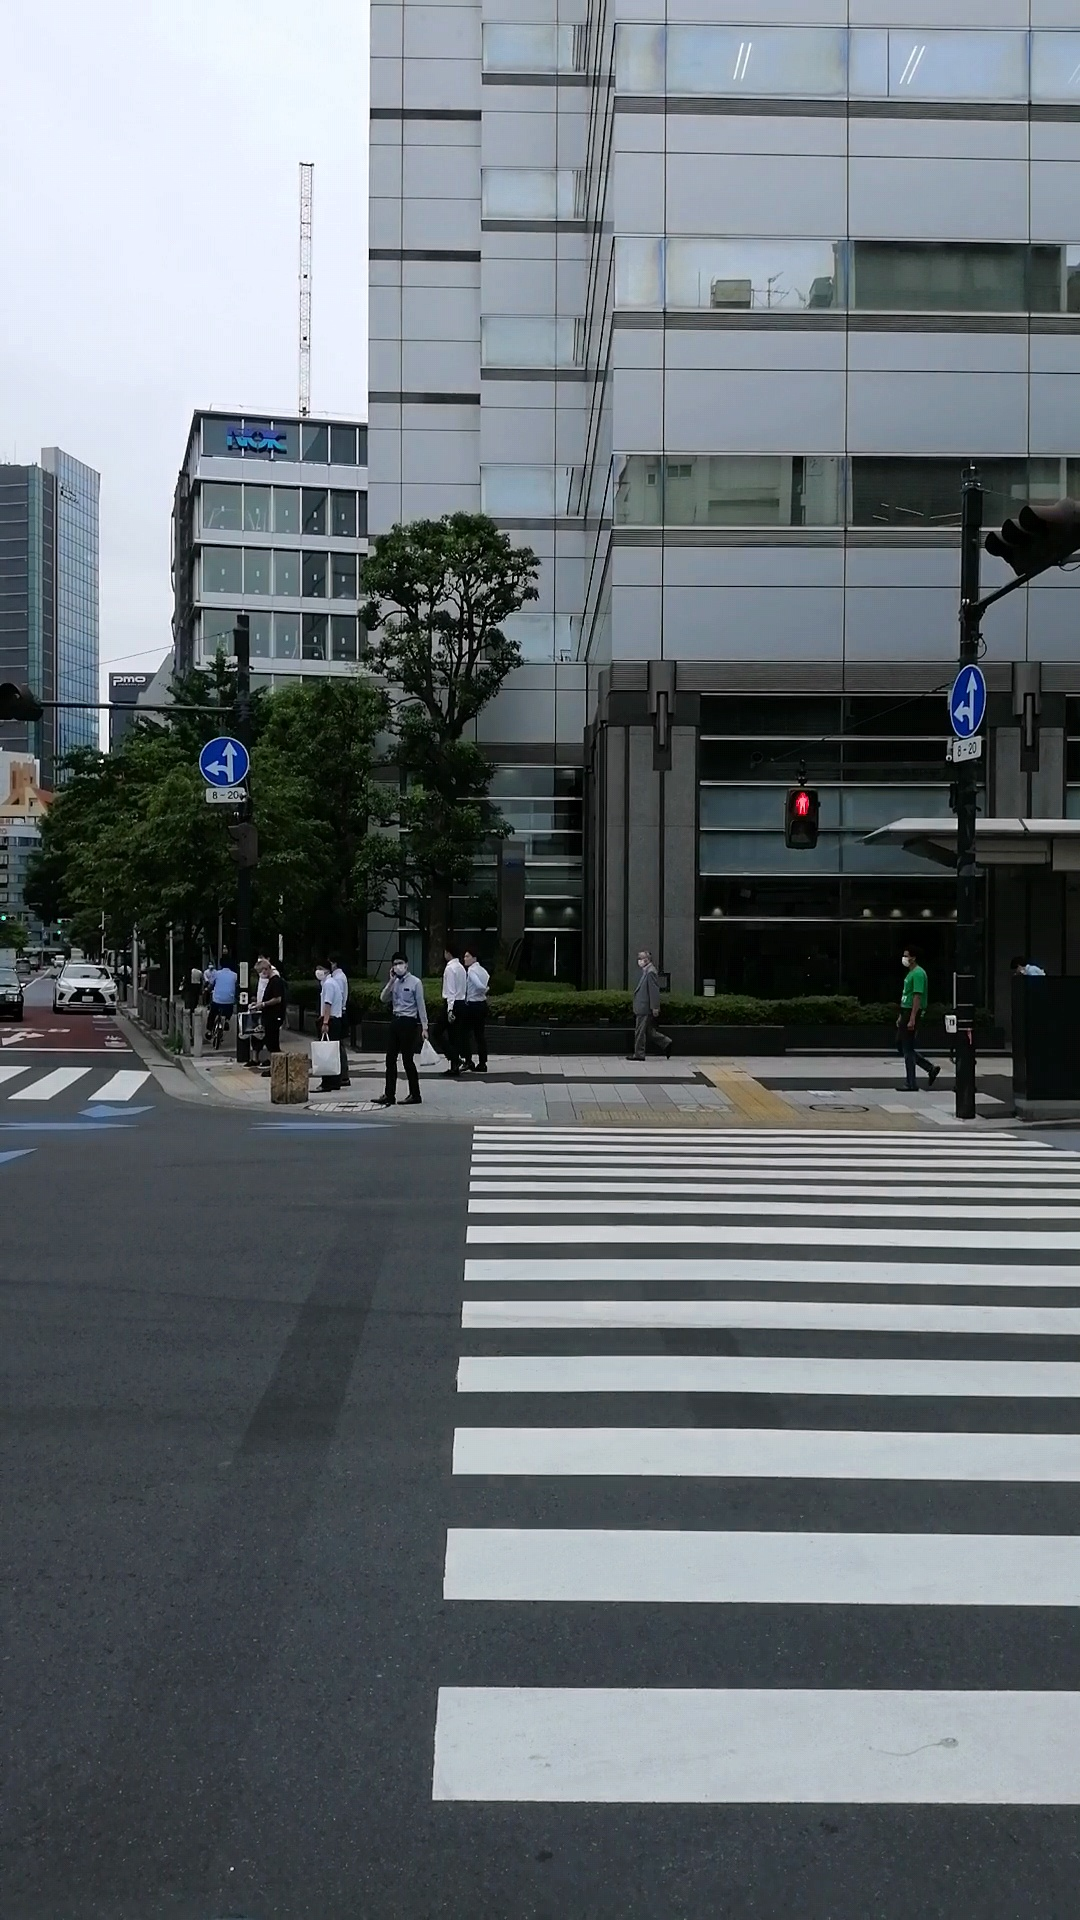red: (785, 789, 820, 851)
